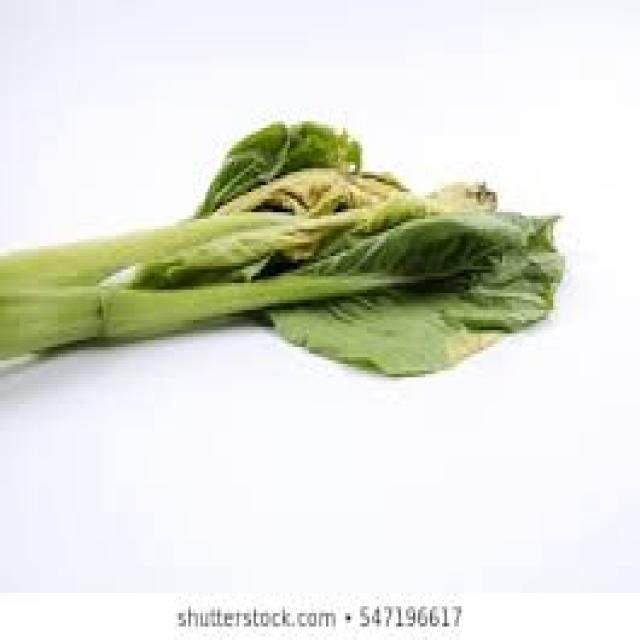food_waste: (0, 121, 563, 374)
